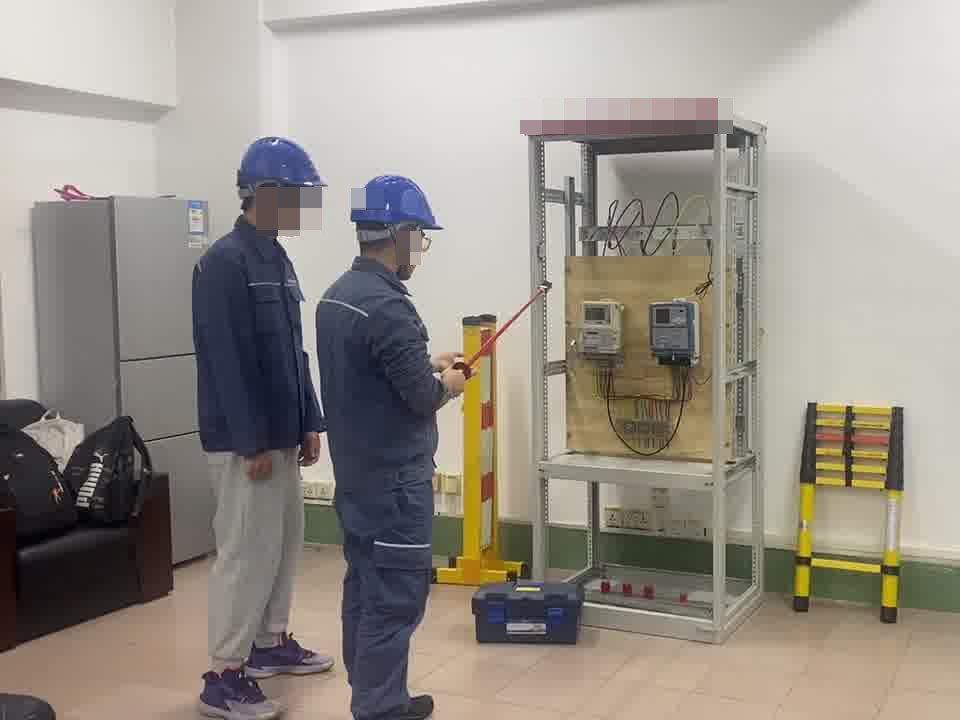downcloth: (195, 443, 304, 680)
downsuit: (333, 484, 437, 720)
halt: (349, 171, 442, 279), (234, 135, 327, 239)
hand: (429, 350, 482, 381), (435, 365, 474, 403), (295, 425, 326, 472), (241, 450, 275, 478)
inear: (383, 222, 425, 277), (246, 178, 286, 229)
person: (310, 168, 475, 720), (189, 132, 330, 720)
testrod: (451, 278, 552, 378)
upsuit: (315, 257, 447, 478), (190, 229, 316, 452)
